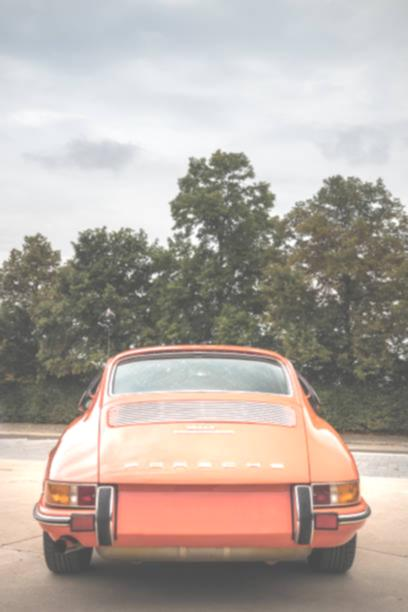porsche: (114, 455, 294, 475)
